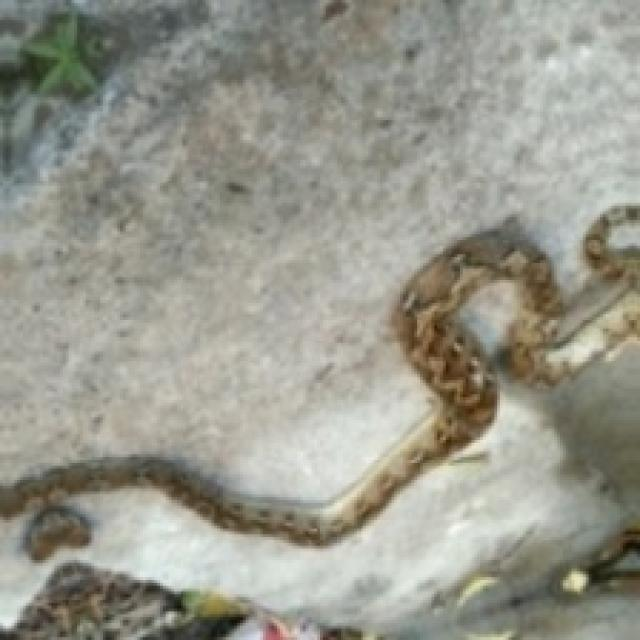reticulated python: (0, 206, 640, 544)
